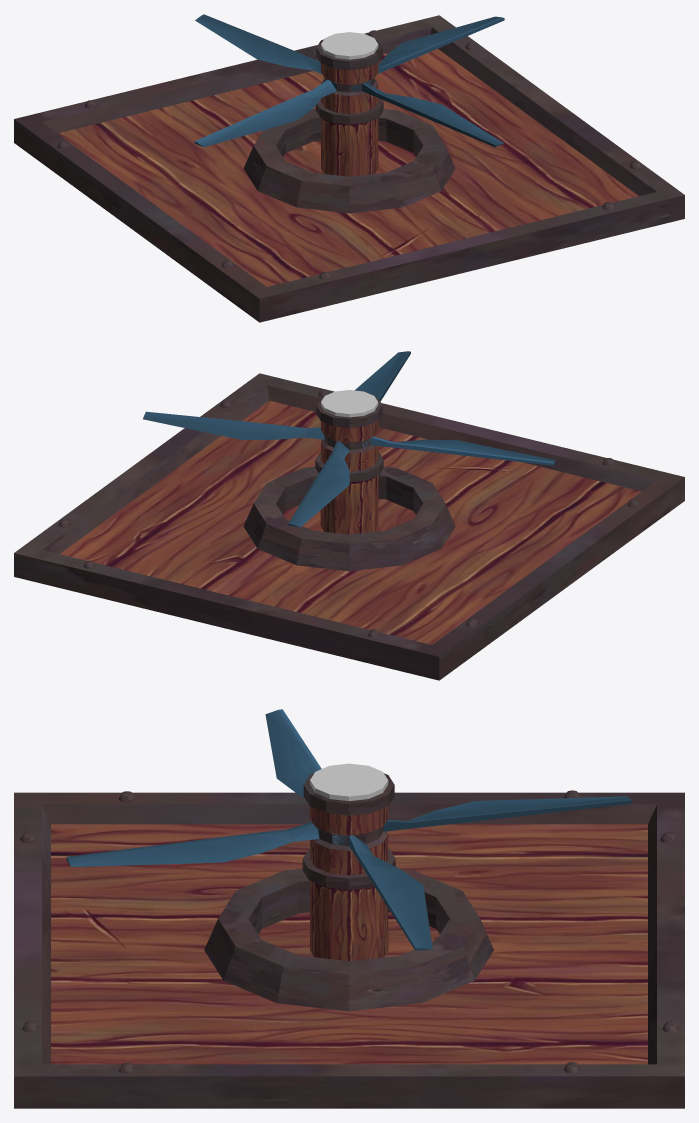
The model's file is Trap_1.fbx.
3 renders of one model, top to bottom at view 1: azimuth 30°, elevation 25°; view 2: azimuth 150°, elevation 25°; view 3: azimuth 270°, elevation 25°, orthographic. The views are drawn at different scales.
Visible parts, largest first — view 1: Object003, Object004, Object007, Object005, Object006, Object002; view 2: Object003, Object004, Object007, Object005, Object006, Object002; view 3: Object003, Object004, Object007, Object005, Object006, Object002.
Part boxes in pixels (x1,y1,x2,y2): Object003: (57, 48, 638, 286); Object004: (14, 15, 684, 322); Object007: (243, 109, 455, 213); Object005: (194, 14, 504, 147); Object006: (321, 63, 378, 176); Object002: (315, 32, 383, 124); Object003: (60, 400, 641, 644); Object004: (14, 373, 684, 680); Object007: (243, 467, 455, 571); Object005: (143, 351, 556, 527); Object006: (320, 421, 378, 534); Object002: (315, 390, 383, 482); Object003: (51, 824, 647, 1064); Object004: (14, 790, 684, 1108); Object007: (204, 868, 493, 1011); Object005: (66, 709, 631, 950); Object006: (310, 806, 388, 961); Object002: (302, 763, 395, 889).
Size of the model in its own units: 46.97 by 14.43 by 46.97.
